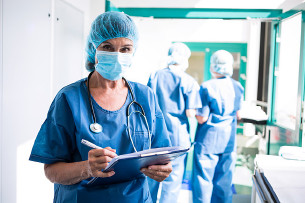face_mask: (94, 39, 132, 79)
